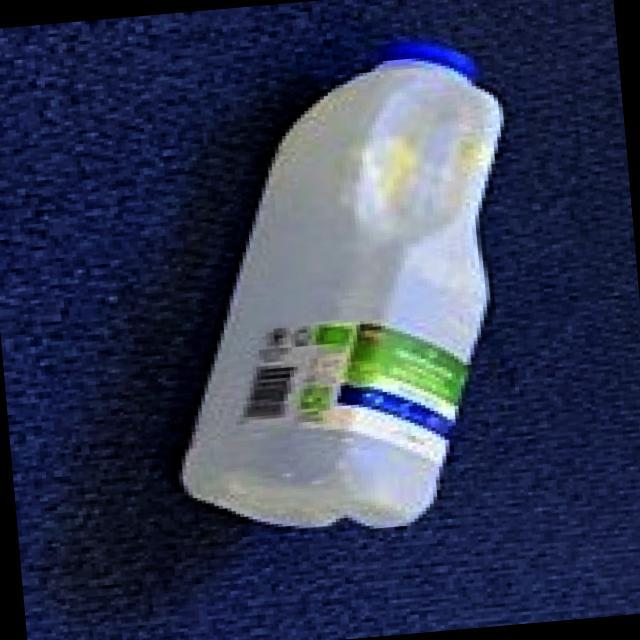HDPE Plastic: (174, 36, 510, 533)
